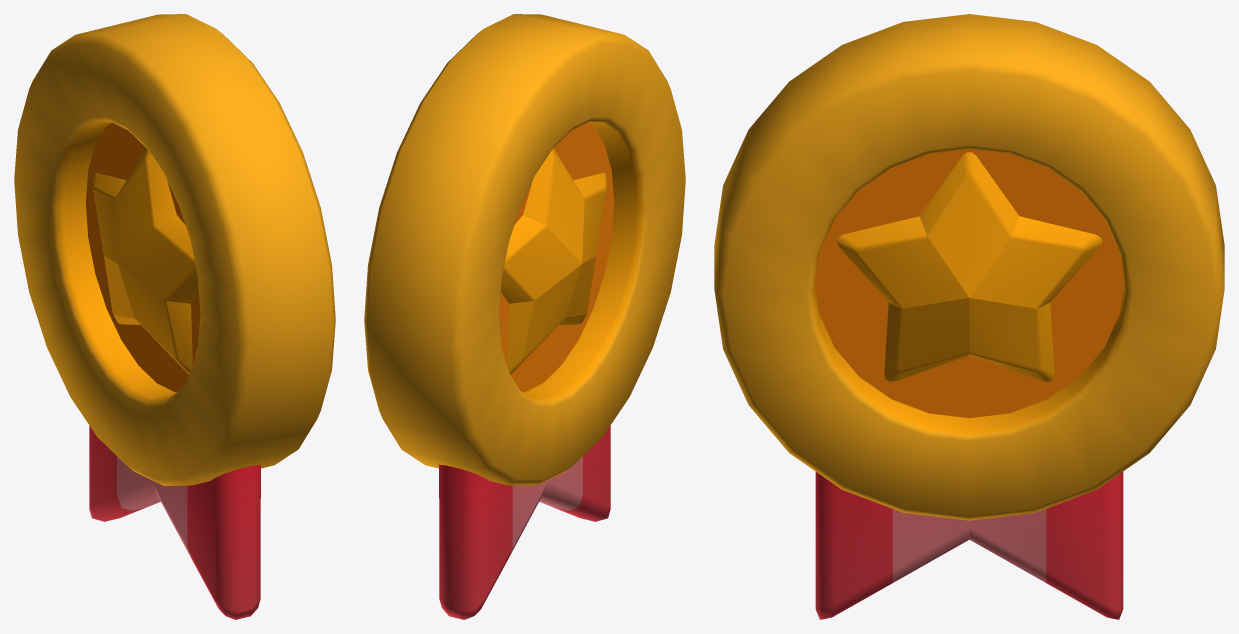
File: Coin_V4_01.fbx
3 renders of one model, left to right at view 1: azimuth 30°, elevation 25°; view 2: azimuth 150°, elevation 25°; view 3: azimuth 270°, elevation 25°, orthographic. The views are drawn at different scales.
Visible parts, largest first — view 1: Coin_V4_01; view 2: Coin_V4_01; view 3: Coin_V4_01.
Boxes of the visible parts, box(x1,y1,x2,y2) form: Coin_V4_01: box(14, 14, 335, 619); Coin_V4_01: box(364, 14, 685, 619); Coin_V4_01: box(714, 14, 1224, 619).
Size of the model in its own units: 12.19 by 53.92 by 43.
